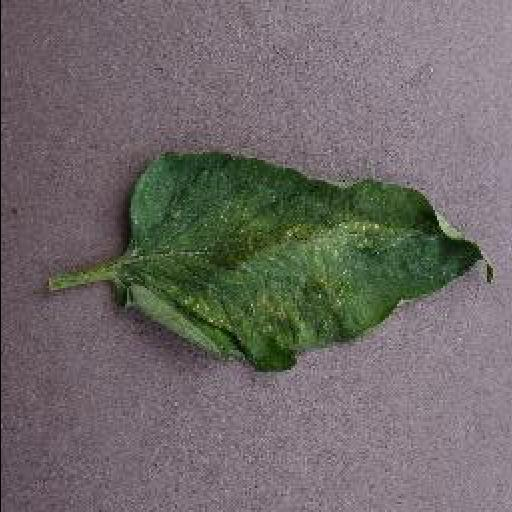disease_tomato: (114, 152, 492, 372)
